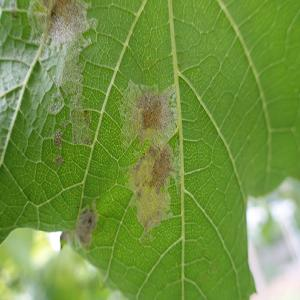Folha: (0, 0, 299, 298)
Fungo: (40, 0, 96, 167), (125, 84, 178, 231), (60, 55, 91, 144), (59, 197, 99, 253), (46, 0, 90, 49), (134, 184, 172, 232), (135, 88, 173, 134), (146, 141, 174, 191), (60, 56, 84, 102), (75, 206, 98, 250), (48, 14, 74, 48), (69, 106, 91, 146), (53, 127, 64, 167), (47, 90, 63, 115), (167, 88, 177, 128), (53, 128, 62, 148), (54, 154, 64, 167), (82, 110, 90, 126)
